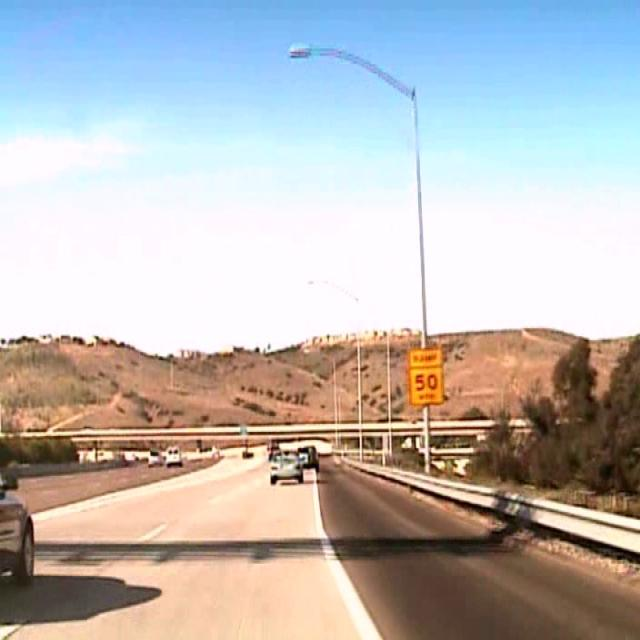speedLimit50: (406, 345, 446, 408)
